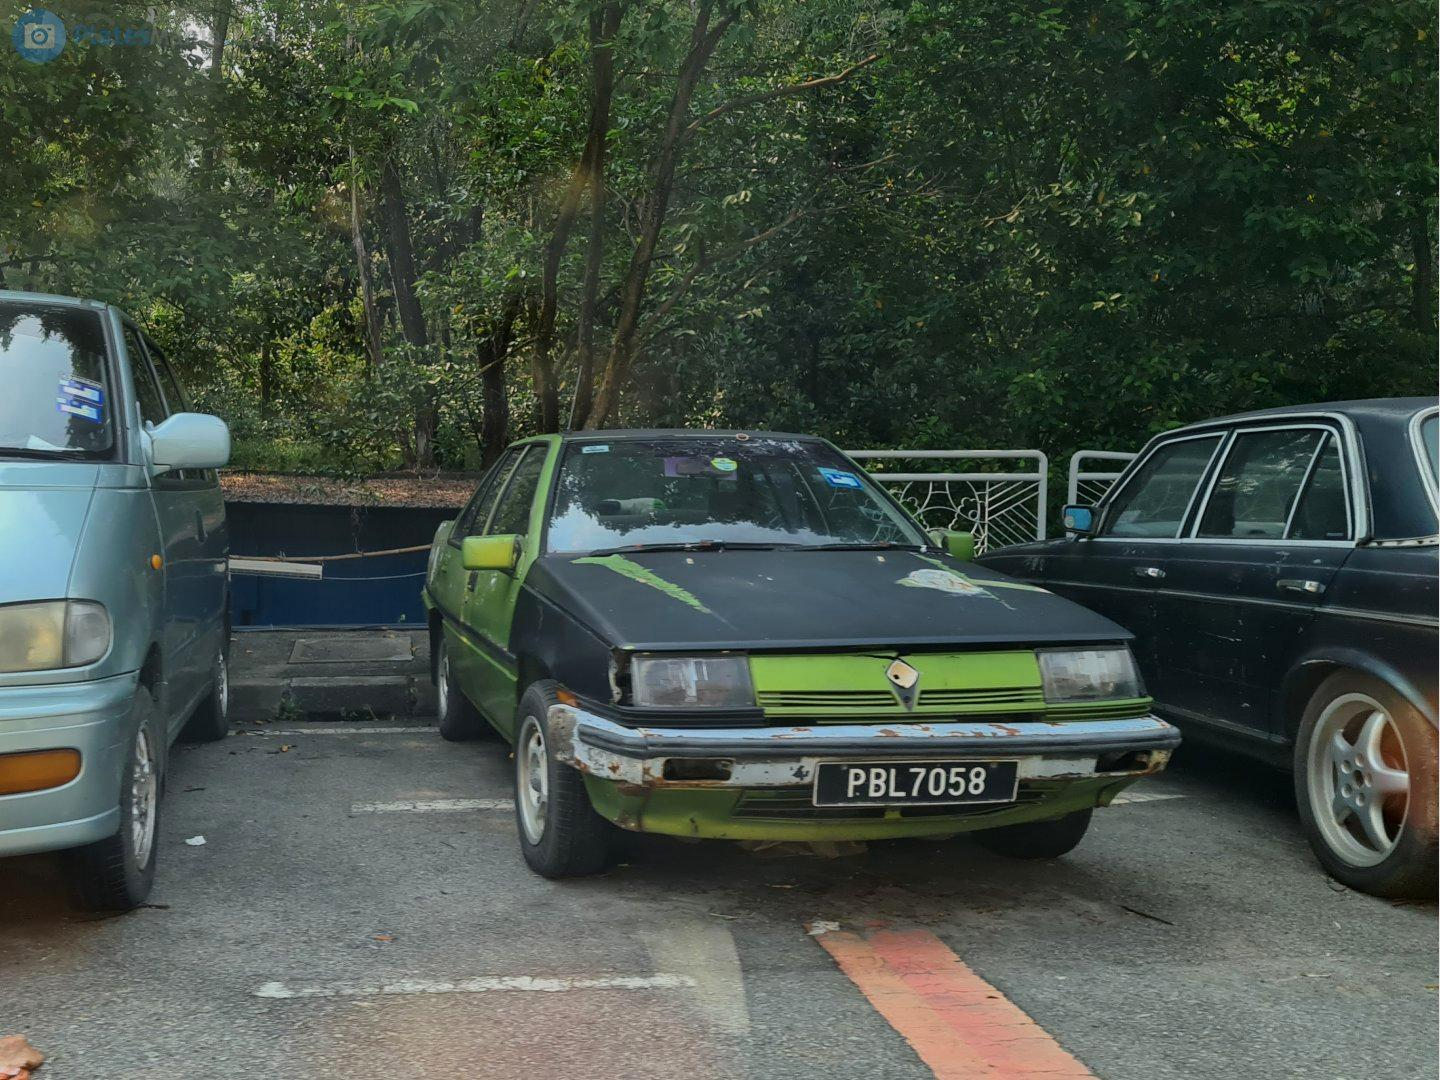License Plate: (820, 762, 1024, 807)
